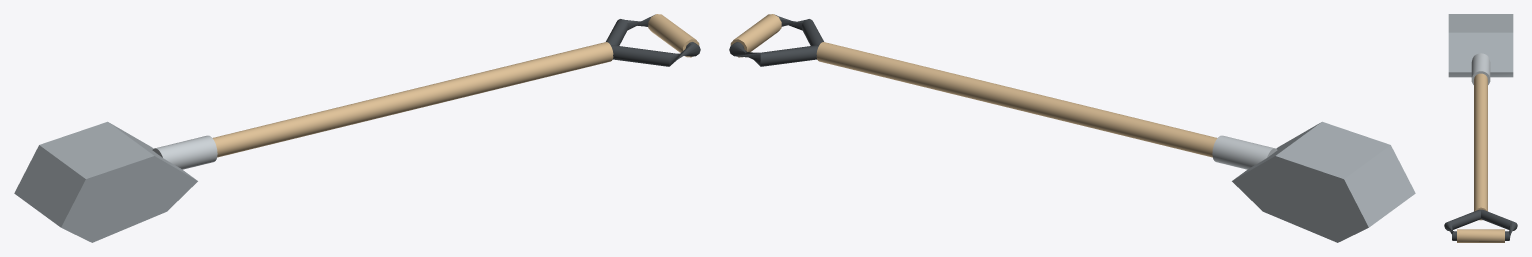
The model's file is shovel.glb.
3 renders of one model, left to right at view 1: azimuth 30°, elevation 25°; view 2: azimuth 150°, elevation 25°; view 3: azimuth 270°, elevation 25°, orthographic. The views are drawn at different scales.
Parts seen in each view (by area): view 1: shovel; view 2: shovel; view 3: shovel.
Part boxes in pixels (left/top/right/bottom): shovel: left=14, top=14, right=700, bottom=242; shovel: left=729, top=14, right=1415, bottom=242; shovel: left=1444, top=14, right=1517, bottom=242.
Size of the model in its own units: 1.02 by 0.1091 by 0.1464.
